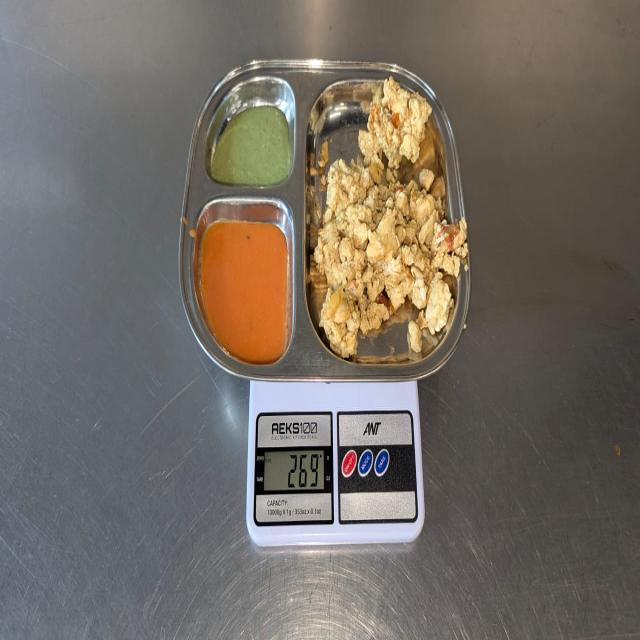Chutney: (198, 218, 294, 364), (212, 101, 294, 188)
Egg Bhurji: (309, 77, 469, 362)
